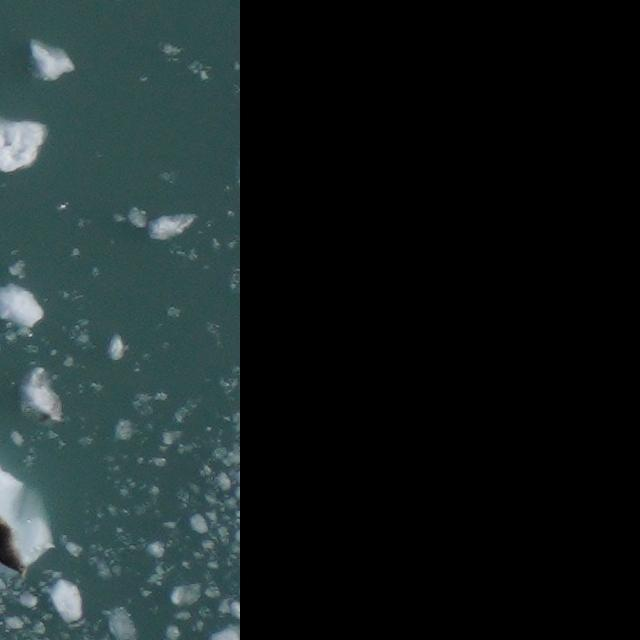seal: (0, 507, 32, 582)
